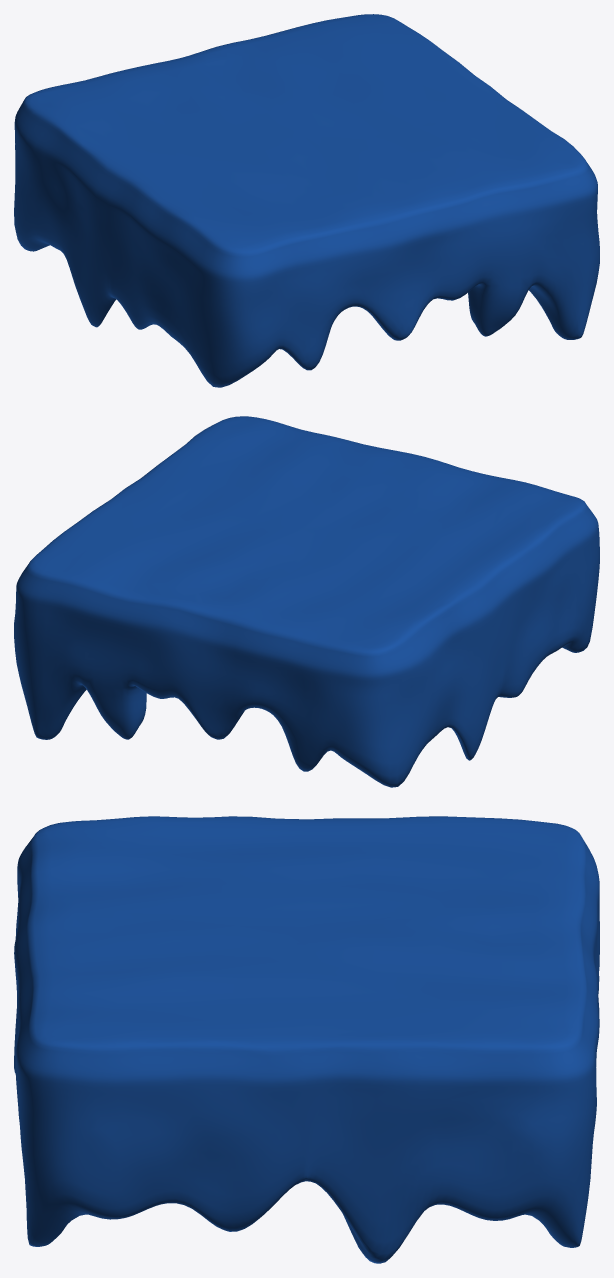
The model's file is iceSmall.fbx.
The picture shows the model from 3 angles, top to bottom: view 1: azimuth 30°, elevation 25°; view 2: azimuth 150°, elevation 25°; view 3: azimuth 270°, elevation 25°; orthographic projection. The views are drawn at different scales.
Parts seen in each view (by area): view 1: iceSmall; view 2: iceSmall; view 3: iceSmall.
Boxes of the visible parts, bbox=[...] form: iceSmall: bbox=[14, 14, 599, 387]; iceSmall: bbox=[14, 416, 599, 787]; iceSmall: bbox=[14, 816, 599, 1263].
Size of the model in its own units: 1.01 by 0.4259 by 1.02.
